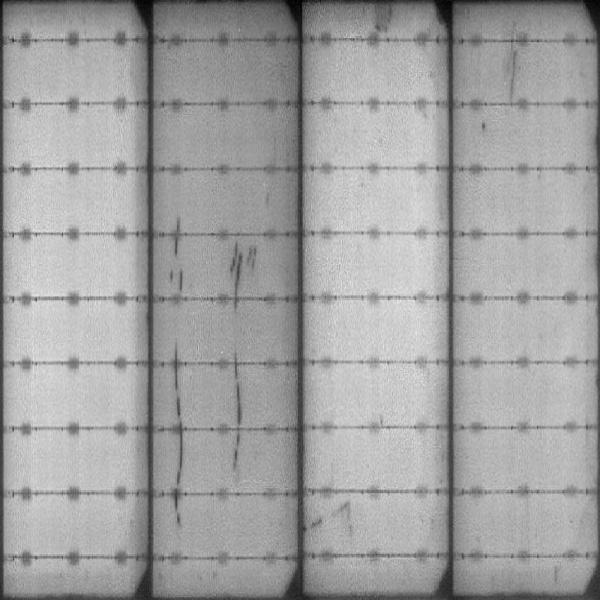scratch: (306, 499, 357, 538), (228, 241, 259, 301), (230, 347, 245, 469), (168, 434, 188, 520), (171, 339, 189, 427), (170, 217, 185, 295), (506, 50, 524, 99)
